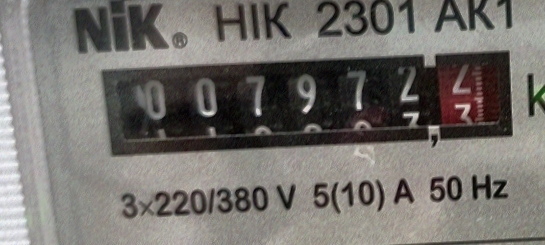0: (141, 77, 168, 119), (192, 74, 218, 117)
2: (395, 63, 420, 102), (447, 61, 471, 96)
3: (450, 99, 473, 125)
7: (343, 66, 370, 113), (242, 71, 268, 117)
9: (293, 70, 317, 114)
screen: (84, 37, 530, 170)
